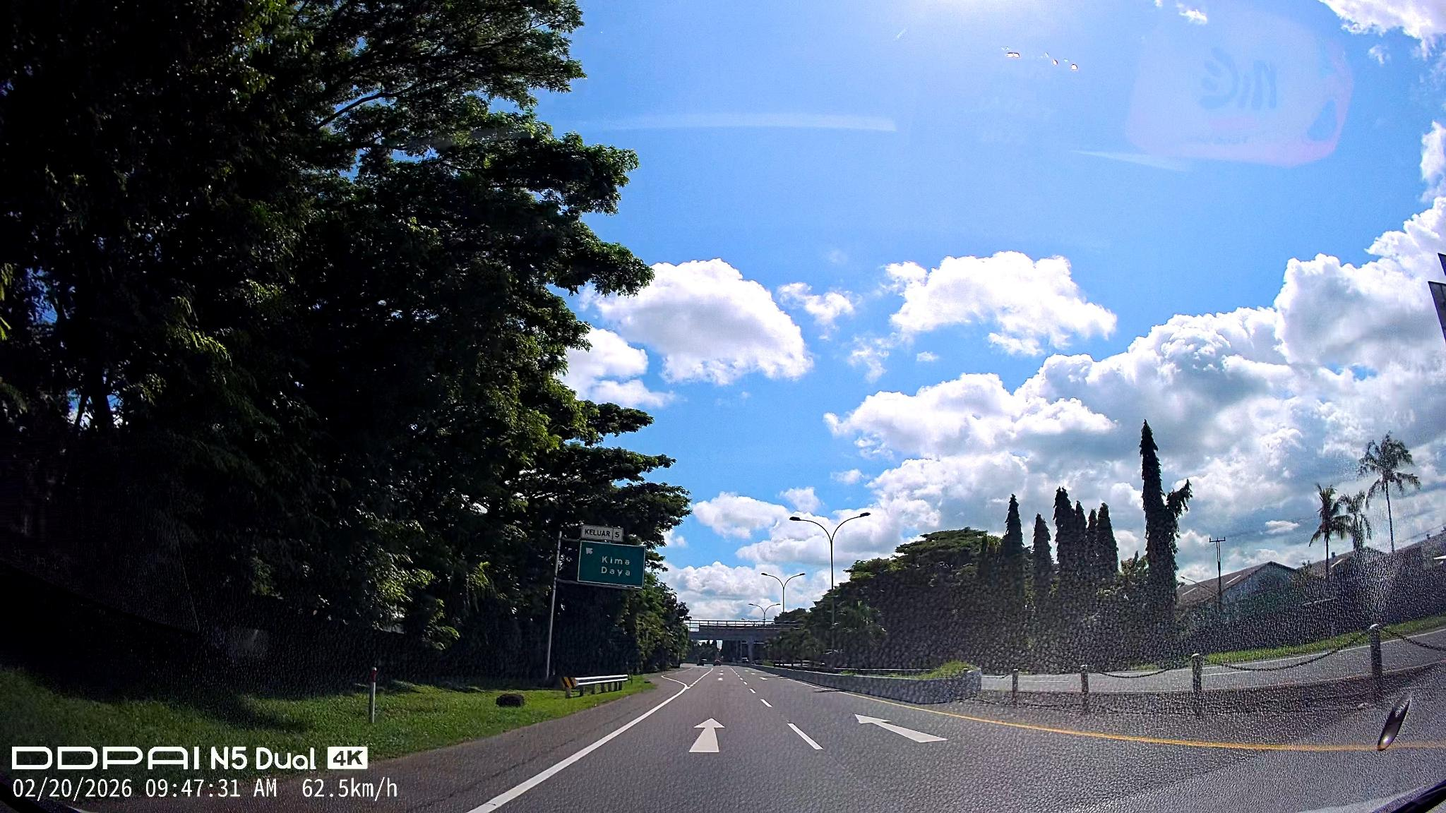rambu_teks: (576, 540, 646, 588)
